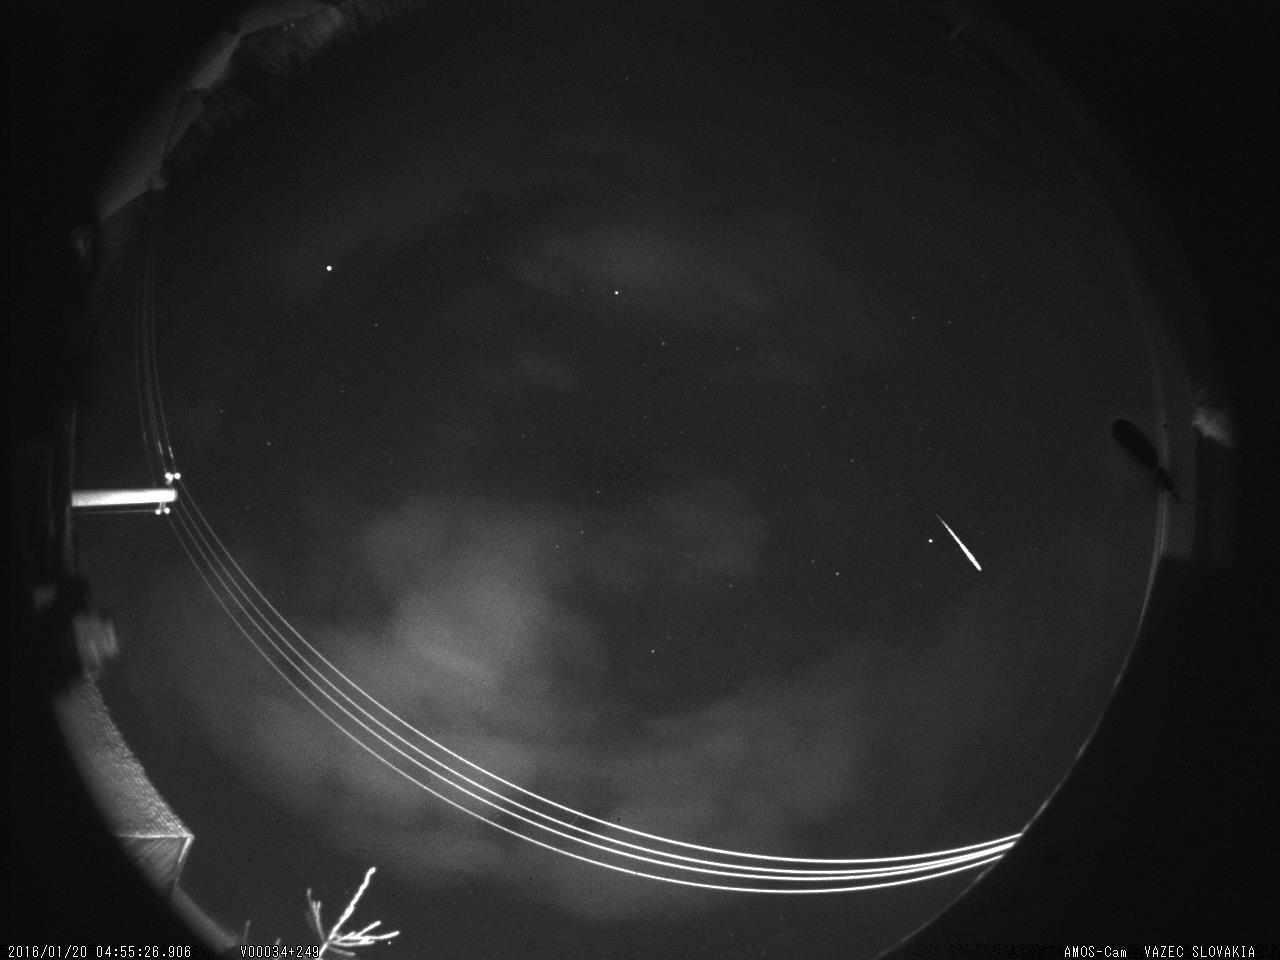Meteor: (932, 510, 988, 582)
